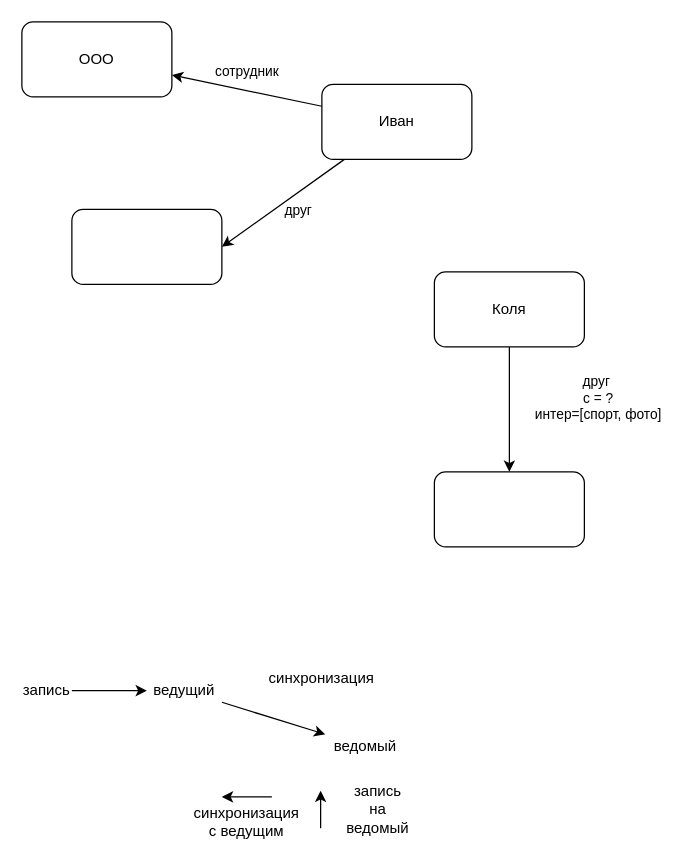
Some shapes in this 683 by 861 pixel diagram are drawn without their labels. Here are the shapes that lost their labels. From the top down, the box of each, then its label:
(71, 208, 222, 284): Валя
(433, 471, 584, 547): Петя
